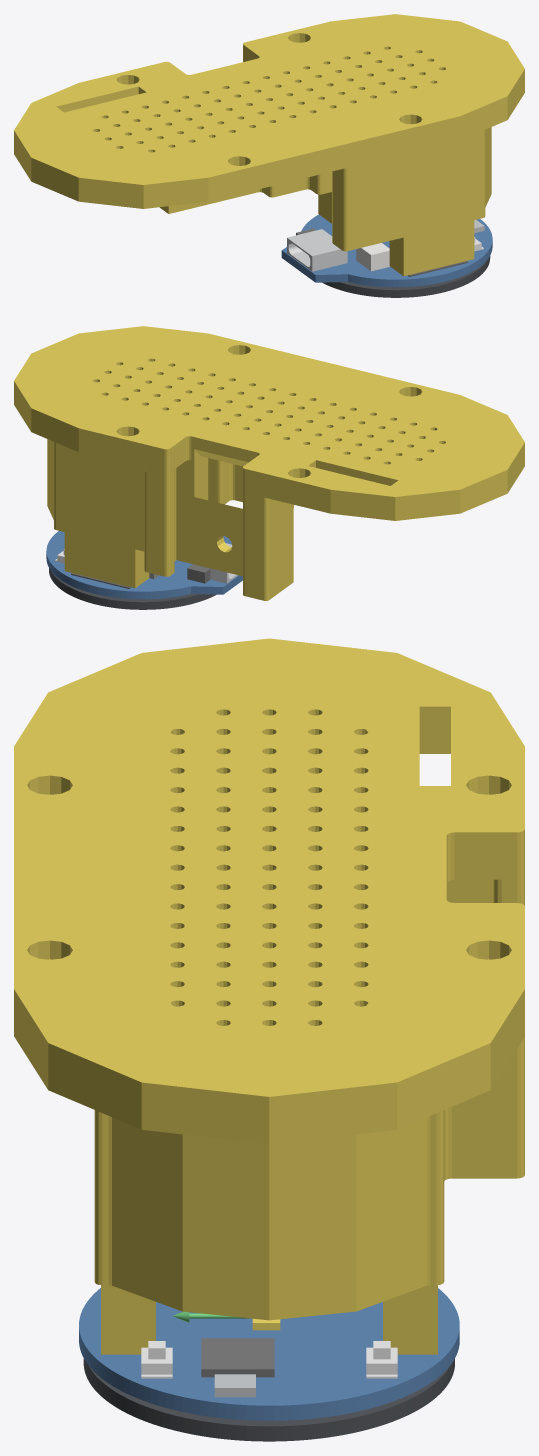
File: head_imu.glb
The picture shows the model from 3 angles, top to bottom: view 1: azimuth 30°, elevation 25°; view 2: azimuth 150°, elevation 25°; view 3: azimuth 270°, elevation 25°; orthographic projection. The views are drawn at different scales.
Visible parts, largest first — view 1: imu_a_neck_mount_imu, imu_c_pcb, imu_c_usbc, imu_c_lcd_panel, imu_c_batt; view 2: imu_a_neck_mount_imu, imu_c_pcb, imu_c_lcd_panel, imu_c_d1; view 3: imu_a_neck_mount_imu, imu_c_pcb, imu_c_lcd_panel, imu_c_rp2040, imu_c_sw_boot, imu_c_sw_reset, imu_c_xtal.
Boxes of the visible parts, x1,y1,x2,y2 form: imu_a_neck_mount_imu: [14, 14, 524, 276]; imu_c_pcb: [281, 214, 492, 287]; imu_c_usbc: [287, 229, 347, 271]; imu_c_lcd_panel: [322, 256, 490, 297]; imu_c_batt: [356, 243, 389, 271]; imu_a_neck_mount_imu: [14, 326, 524, 600]; imu_c_pcb: [46, 531, 242, 599]; imu_c_lcd_panel: [49, 568, 216, 609]; imu_c_d1: [187, 564, 210, 583]; imu_a_neck_mount_imu: [14, 638, 524, 1354]; imu_c_pcb: [79, 1288, 459, 1420]; imu_c_lcd_panel: [83, 1358, 454, 1441]; imu_c_rp2040: [201, 1338, 274, 1377]; imu_c_sw_boot: [141, 1341, 172, 1378]; imu_c_sw_reset: [366, 1341, 397, 1378]; imu_c_xtal: [214, 1374, 255, 1397].
Size of the model in its own units: 0.104 by 0.0395 by 0.049.
